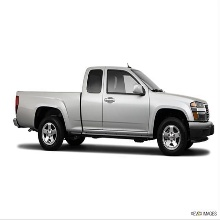no damage: (11, 66, 214, 155)
